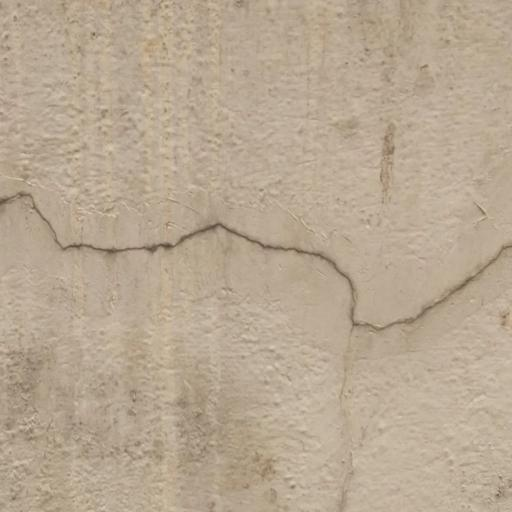minor_crack: (0, 161, 512, 370), (308, 310, 386, 512)
